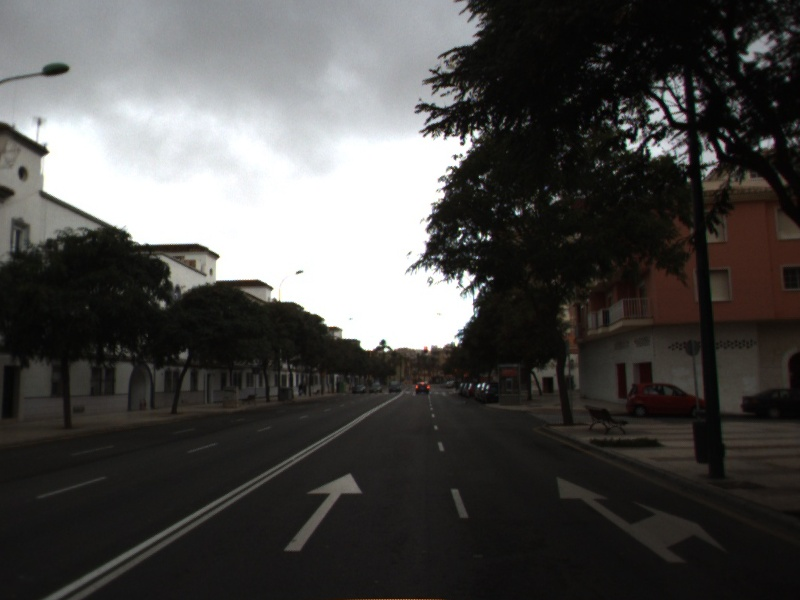STRAIGHT: (282, 471, 365, 553)
STRAIGHT_RIGHT: (554, 474, 729, 564)
